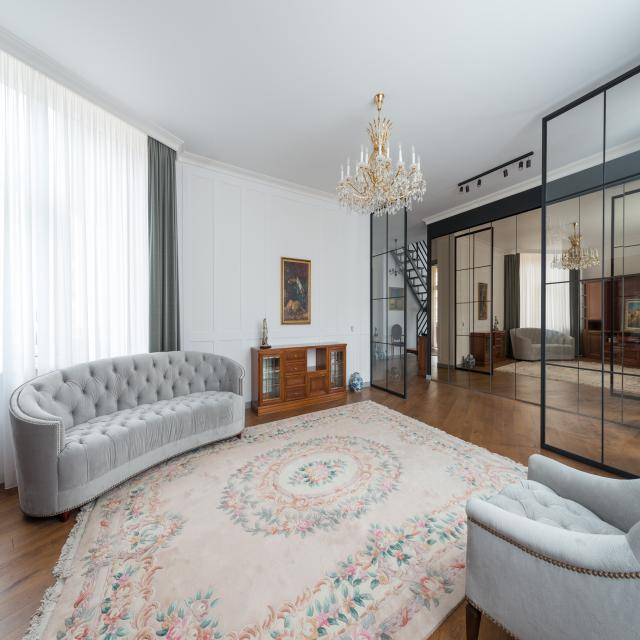floor: (245, 355, 633, 481), (0, 482, 81, 640), (545, 407, 602, 463), (603, 420, 640, 476), (427, 599, 468, 640), (477, 613, 514, 640), (387, 357, 404, 396), (373, 379, 386, 389)
wall: (176, 161, 370, 409), (437, 238, 449, 369), (407, 280, 421, 349), (493, 252, 504, 331), (387, 252, 404, 298), (387, 298, 404, 344), (474, 266, 491, 302), (450, 236, 454, 369), (474, 301, 491, 332), (624, 245, 640, 275), (456, 269, 469, 303), (456, 335, 469, 368), (474, 243, 491, 268), (580, 261, 602, 280), (456, 238, 469, 270), (456, 303, 469, 335), (377, 254, 384, 298), (377, 299, 383, 343), (614, 247, 623, 276), (372, 256, 377, 299), (604, 248, 611, 278), (372, 299, 377, 341), (383, 253, 387, 298), (383, 299, 387, 343), (431, 241, 437, 265), (469, 302, 473, 336), (469, 269, 473, 302), (470, 241, 474, 268), (394, 347, 400, 358), (598, 249, 603, 261), (383, 344, 387, 356), (407, 353, 417, 357), (379, 343, 383, 352), (401, 347, 404, 358), (401, 336, 404, 343), (394, 339, 400, 342), (392, 336, 393, 342)
